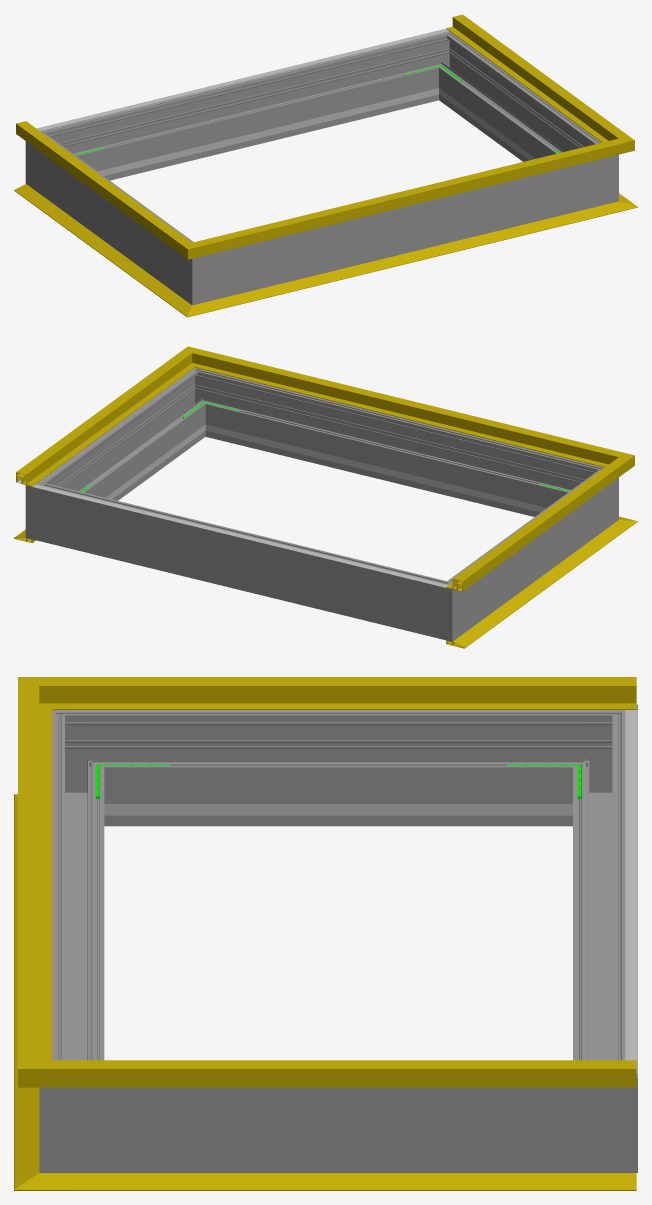
The picture shows the model from 3 angles, top to bottom: view 1: azimuth 30°, elevation 25°; view 2: azimuth 150°, elevation 25°; view 3: azimuth 270°, elevation 25°; orthographic projection. The views are drawn at different scales.
Parts seen in each view (by area): view 1: 3DGeom-276, 3DGeom-298, 3DGeom-297, 3DGeom-123, 3DGeom-268, 3DGeom-28, 3DGeom-128, 3DGeom-118, 3DGeom-270, 3DGeom-38, 3DGeom-244, 3DGeom-284 (+8 smaller); view 2: 3DGeom-298, 3DGeom-276, 3DGeom-297, 3DGeom-123, 3DGeom-268, 3DGeom-128, 3DGeom-118, 3DGeom-278, 3DGeom-38, 3DGeom-284, 3DGeom-239, 3DGeom-290 (+5 smaller); view 3: 3DGeom-268, 3DGeom-297, 3DGeom-118, 3DGeom-128, 3DGeom-276, 3DGeom-298, 3DGeom-123, 3DGeom-30, 3DGeom-290, 3DGeom-284, 3DGeom-278, 3DGeom-270 (+8 smaller).
Part boxes in pixels (<box>): 3DGeom-276: <box>67,39,432,180</box>; 3DGeom-298: <box>230,164,581,295</box>; 3DGeom-297: <box>442,44,590,161</box>; 3DGeom-123: <box>220,145,597,250</box>; 3DGeom-268: <box>47,144,182,289</box>; 3DGeom-28: <box>218,207,600,308</box>; 3DGeom-128: <box>446,14,612,138</box>; 3DGeom-118: <box>16,121,175,243</box>; 3DGeom-270: <box>170,234,229,305</box>; 3DGeom-38: <box>14,184,177,300</box>; 3DGeom-244: <box>111,97,402,173</box>; 3DGeom-284: <box>418,31,467,102</box>; 3DGeom-298: <box>211,375,577,516</box>; 3DGeom-276: <box>63,489,421,632</box>; 3DGeom-297: <box>53,381,201,500</box>; 3DGeom-123: <box>216,355,596,463</box>; 3DGeom-268: <box>462,480,596,625</box>; 3DGeom-128: <box>16,362,182,486</box>; 3DGeom-118: <box>446,469,613,591</box>; 3DGeom-278: <box>414,570,473,641</box>; 3DGeom-38: <box>446,531,616,648</box>; 3DGeom-284: <box>25,471,69,546</box>; 3DGeom-239: <box>241,433,533,510</box>; 3DGeom-290: <box>177,367,226,438</box>; 3DGeom-268: <box>117,710,559,826</box>; 3DGeom-297: <box>117,1087,559,1172</box>; 3DGeom-118: <box>96,677,636,709</box>; 3DGeom-128: <box>96,1060,636,1087</box>; 3DGeom-276: <box>573,737,637,1060</box>; 3DGeom-298: <box>52,737,104,1060</box>; 3DGeom-123: <box>18,710,52,1053</box>; 3DGeom-30: <box>92,1173,636,1190</box>; 3DGeom-290: <box>39,1046,117,1172</box>; 3DGeom-284: <box>560,1046,637,1172</box>; 3DGeom-278: <box>560,704,637,826</box>; 3DGeom-270: <box>52,710,117,826</box>.
Size of the model in its own units: 1.83 by 0.2596 by 1.22.
